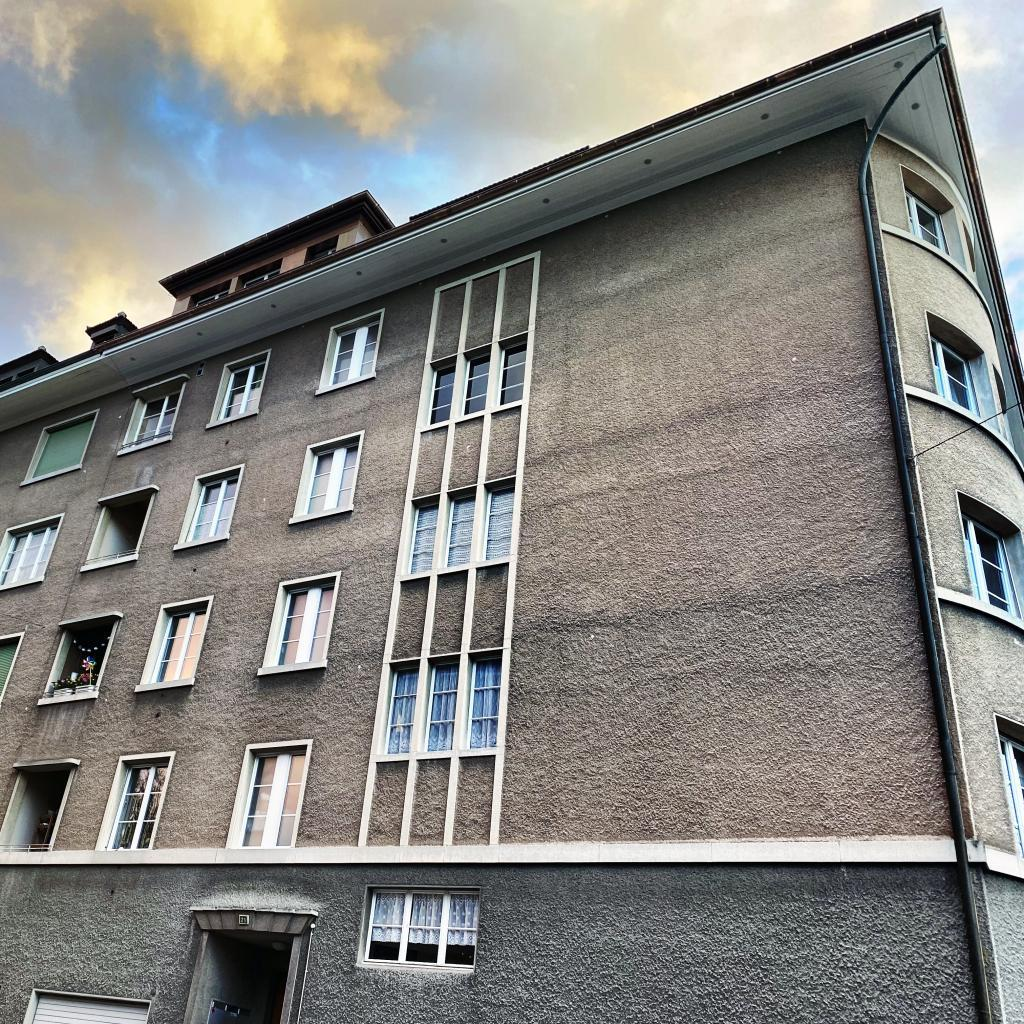balcony-fence: (118, 429, 173, 451), (81, 549, 140, 566), (40, 684, 97, 699), (0, 844, 54, 853)
facade: (0, 5, 1024, 1024)
window: (363, 889, 481, 972), (238, 750, 306, 848), (961, 513, 1019, 617), (104, 762, 170, 851), (272, 583, 334, 667), (148, 607, 208, 684), (29, 416, 95, 478), (304, 442, 359, 515), (183, 473, 239, 543), (0, 521, 60, 586), (930, 335, 978, 416), (328, 319, 380, 386), (466, 654, 502, 749), (423, 660, 460, 752), (216, 359, 267, 421), (384, 665, 419, 755), (999, 734, 1024, 857), (132, 389, 181, 446), (904, 188, 944, 253), (483, 482, 515, 561), (444, 492, 476, 568), (408, 501, 439, 574), (497, 339, 527, 407), (461, 351, 491, 416), (427, 363, 456, 426), (0, 640, 19, 697), (243, 267, 280, 288), (196, 288, 229, 307), (311, 247, 336, 260), (95, 334, 114, 345)
